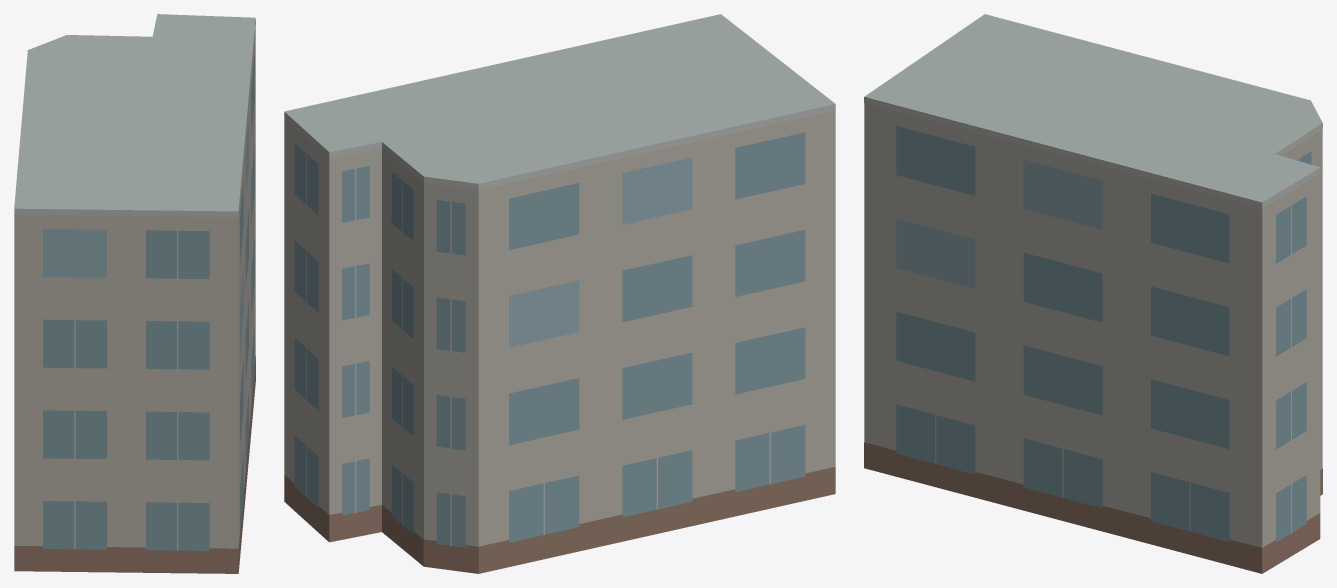
Rendered from survey-upis-32940207.glb.
3 views of the same model, side by side, from view 1: azimuth 30°, elevation 25°; view 2: azimuth 150°, elevation 25°; view 3: azimuth 270°, elevation 25° (orthographic). The views are drawn at different scales.
Parts seen in each view (by area): view 1: survey-upis-32940207.tmp; view 2: survey-upis-32940207.tmp; view 3: survey-upis-32940207.tmp.
Boxes of the visible parts, box(x1,y1,x2,y2) form: survey-upis-32940207.tmp: box(14, 14, 255, 573); survey-upis-32940207.tmp: box(284, 14, 835, 573); survey-upis-32940207.tmp: box(864, 14, 1322, 573).
Size of the model in its own units: 16.12 by 14.8 by 16.57.
